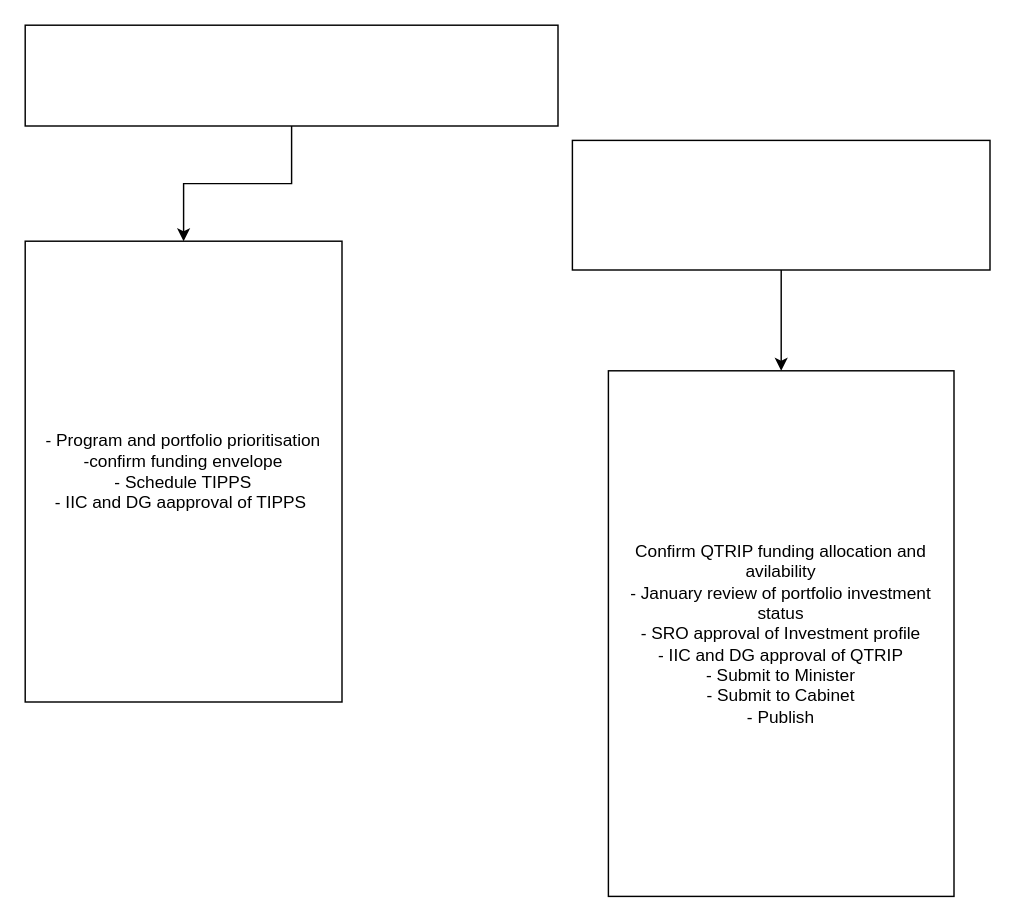
Some shapes in this 1015 by 922 pixel diagram are drawn without their labels. The shapes that lost their labels are listed below. From the top down, each one's centre as x and y in pixels, then its label:
point (291, 75): TIPPS (Oct to Feb)
point (780, 204): QTRIP (Jan to June)
